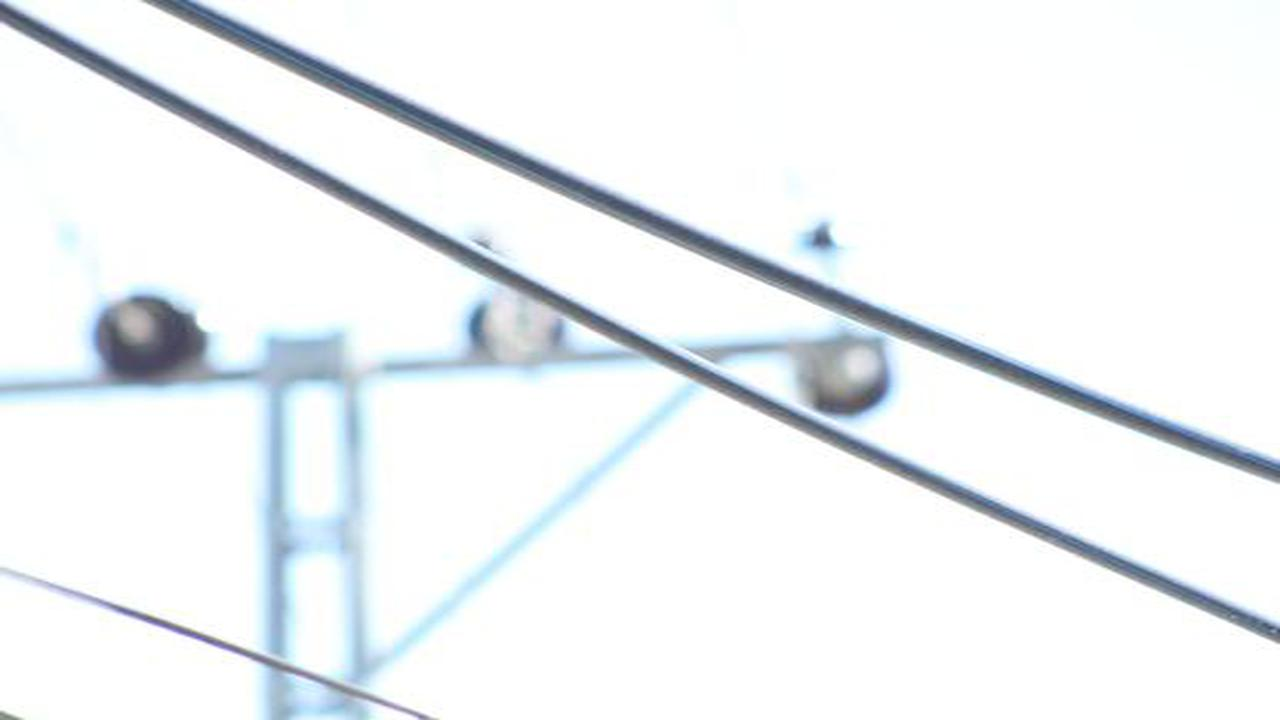insulator_disc: (94, 288, 202, 382)
